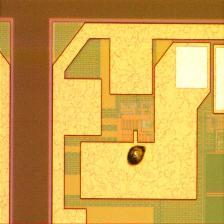PARTICLE: (123, 142, 151, 170)
